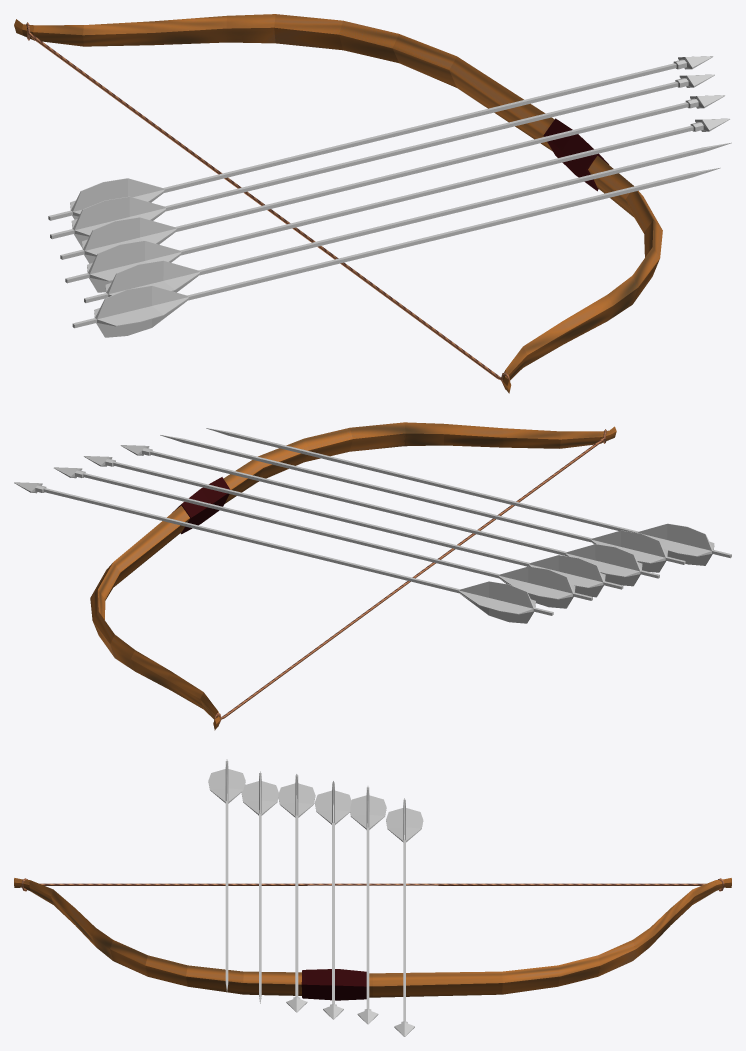
The model's file is bowready.fbx.
The picture shows the model from 3 angles, top to bottom: view 1: azimuth 30°, elevation 25°; view 2: azimuth 150°, elevation 25°; view 3: azimuth 270°, elevation 25°; orthographic projection. The views are drawn at different scales.
Visible parts, largest first — view 1: Cube.001, Cube.003, Cube.005, Cube.004, Cube.002, Cube.006, Cube; view 2: Cube.001, Cube, Cube.002, Cube.005, Cube.003, Cube.004, Cube.006; view 3: Cube.001, Cube.005, Cube.002, Cube.003, Cube, Cube.004, Cube.006.
Part boxes in pixels (box(x1,y1,x2,y2)): Cube.001: box(14, 14, 662, 393); Cube.003: box(72, 167, 720, 337); Cube.005: box(65, 118, 729, 292); Cube.004: box(60, 95, 724, 263); Cube.002: box(50, 74, 714, 247); Cube.006: box(84, 142, 731, 302); Cube: box(48, 56, 713, 220); Cube.001: box(90, 422, 616, 730); Cube: box(14, 482, 553, 623); Cube.002: box(54, 467, 592, 608); Cube.005: box(120, 445, 659, 586); Cube.003: box(206, 428, 731, 565); Cube.004: box(84, 456, 623, 597); Cube.006: box(160, 435, 685, 572); Cube.001: box(14, 878, 731, 1000); Cube.005: box(278, 774, 315, 1012); Cube.002: box(350, 786, 386, 1024); Cube.003: box(208, 759, 245, 991); Cube: box(386, 798, 423, 1036); Cube.004: box(314, 781, 351, 1019); Cube.006: box(241, 771, 278, 1003).
Size of the model in its own units: 224 by 19.35 by 251.
